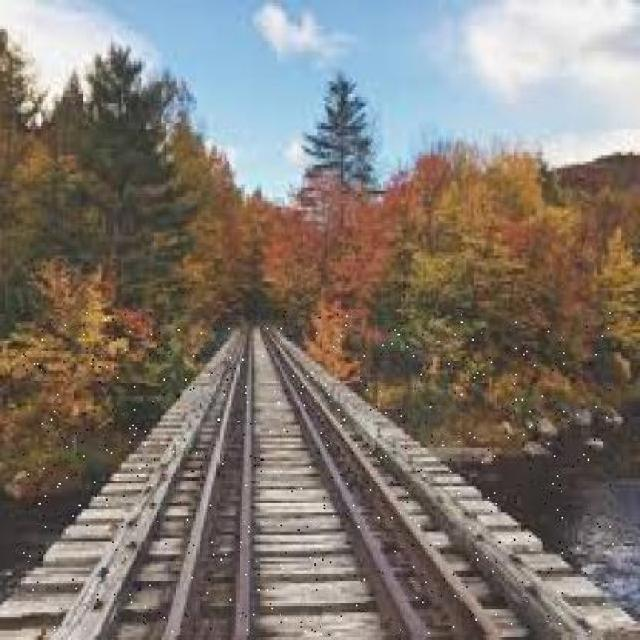rail: (169, 321, 463, 636)
